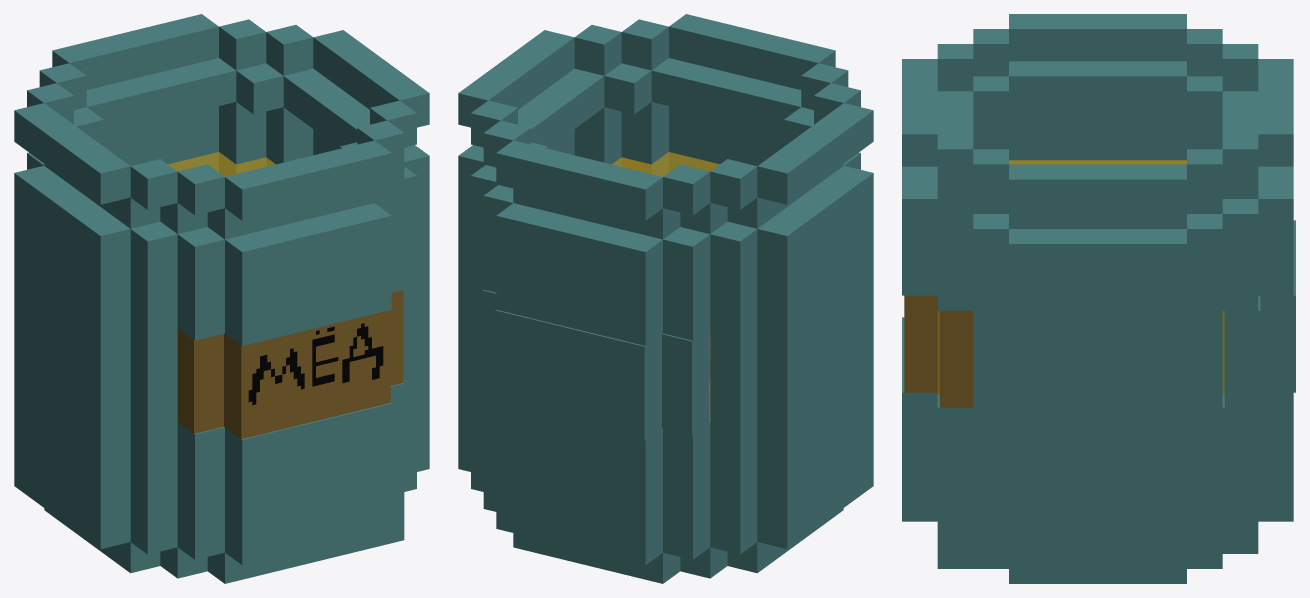
The model's file is HONEY.fbx.
The picture shows the model from 3 angles, left to right: view 1: azimuth 30°, elevation 25°; view 2: azimuth 150°, elevation 25°; view 3: azimuth 270°, elevation 25°; orthographic projection. The views are drawn at different scales.
Parts seen in each view (by area): view 1: Untitled, Untitled.001, Untitled.002; view 2: Untitled, Untitled.002; view 3: Untitled, Untitled.001, Untitled.002.
Boxes of the visible parts, <box> form: Untitled: <box>14,14,429,583</box>; Untitled.001: <box>177,290,403,439</box>; Untitled.002: <box>168,152,275,176</box>; Untitled: <box>458,14,873,583</box>; Untitled.002: <box>612,152,719,421</box>; Untitled: <box>902,14,1295,583</box>; Untitled.001: <box>904,295,973,407</box>; Untitled.002: <box>937,160,1224,394</box>.
Size of the model in its own units: 880 by 1040 by 885.
